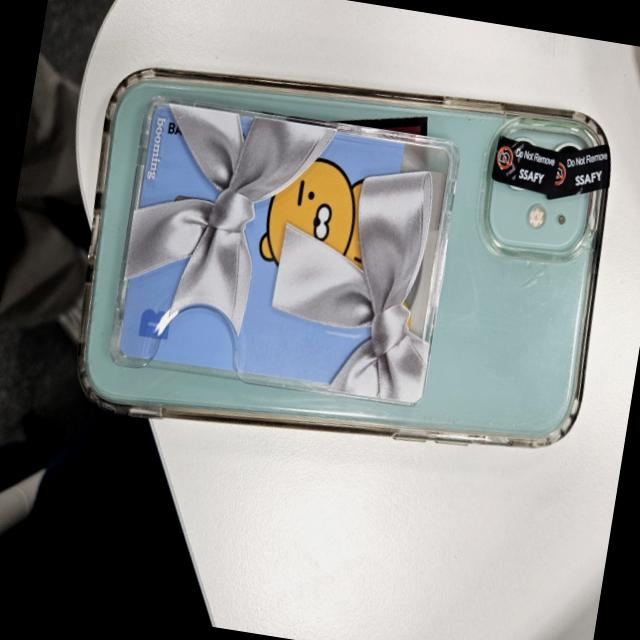phone: (76, 39, 624, 470)
sticker: (482, 130, 572, 202), (538, 141, 618, 213)
